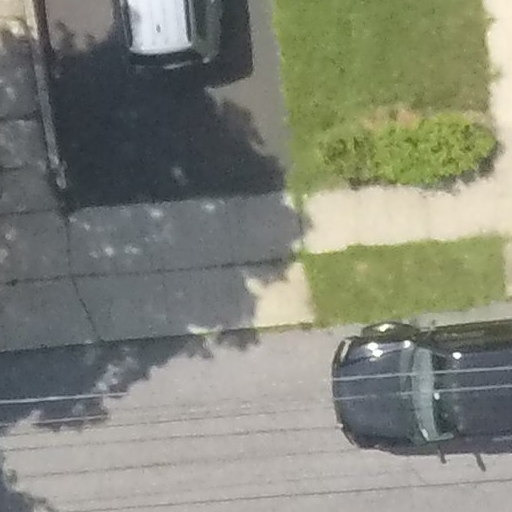car: (328, 304, 512, 461), (74, 1, 247, 84)
